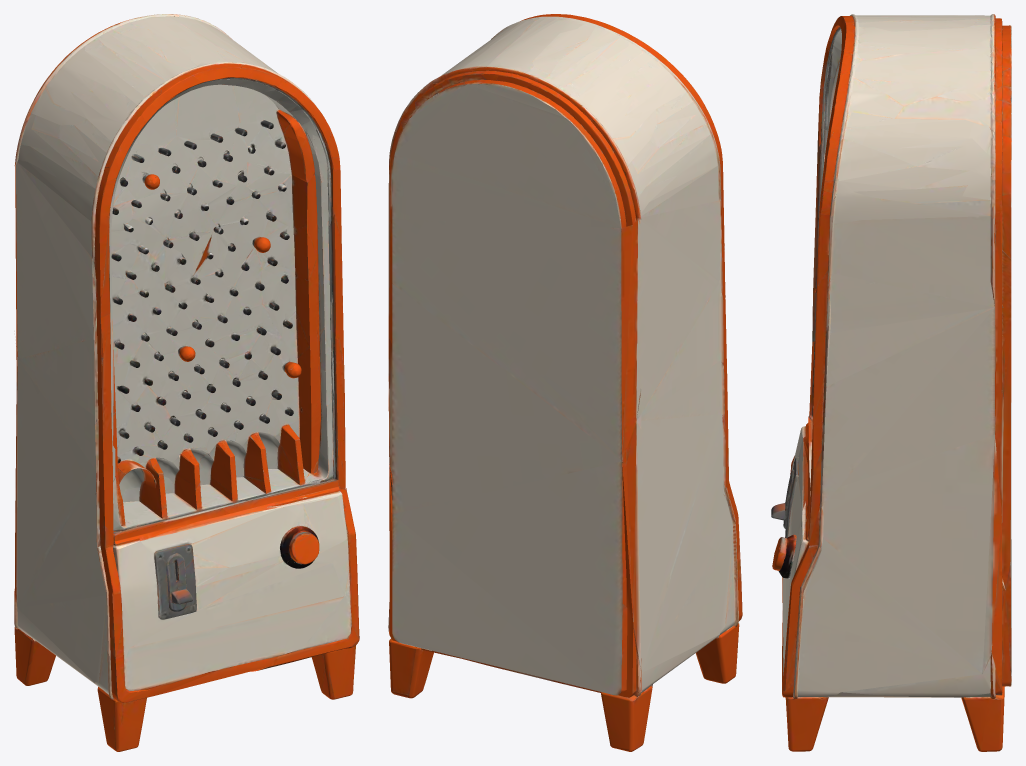
The model's file is cabinet.glb.
3 views of the same model, side by side, from view 1: azimuth 30°, elevation 25°; view 2: azimuth 150°, elevation 25°; view 3: azimuth 270°, elevation 25° (orthographic). The views are drawn at different scales.
Bounding box in the file's own units: 0.7749 × 1.9 × 0.6239.
1 material, 1 textured.
